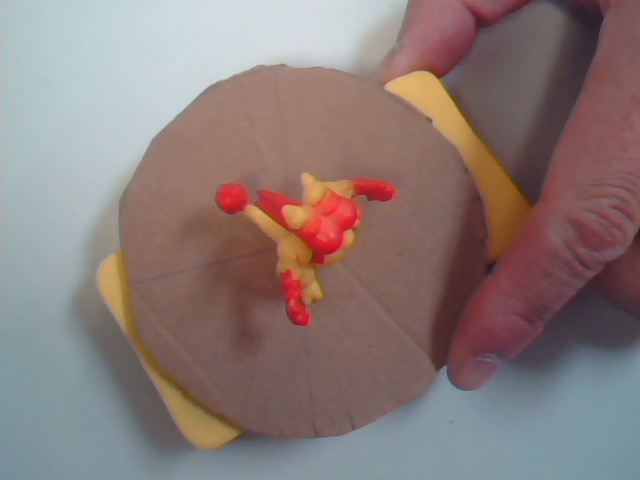magmar: (213, 125, 443, 336)
